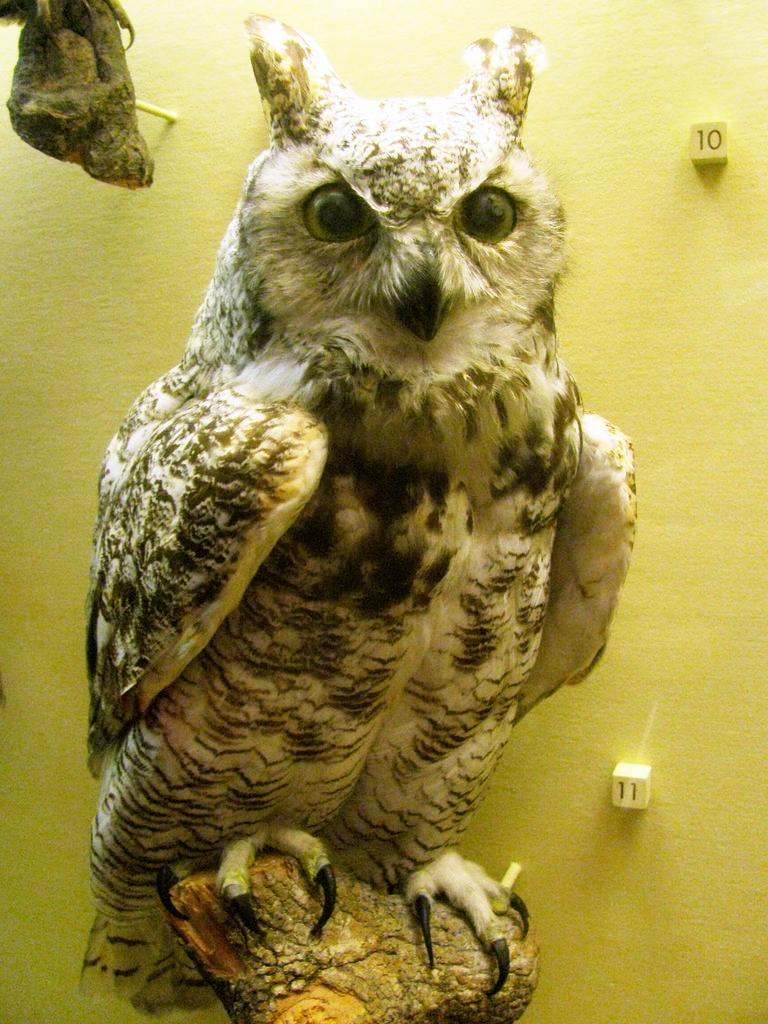Owl: (76, 10, 640, 1024)
